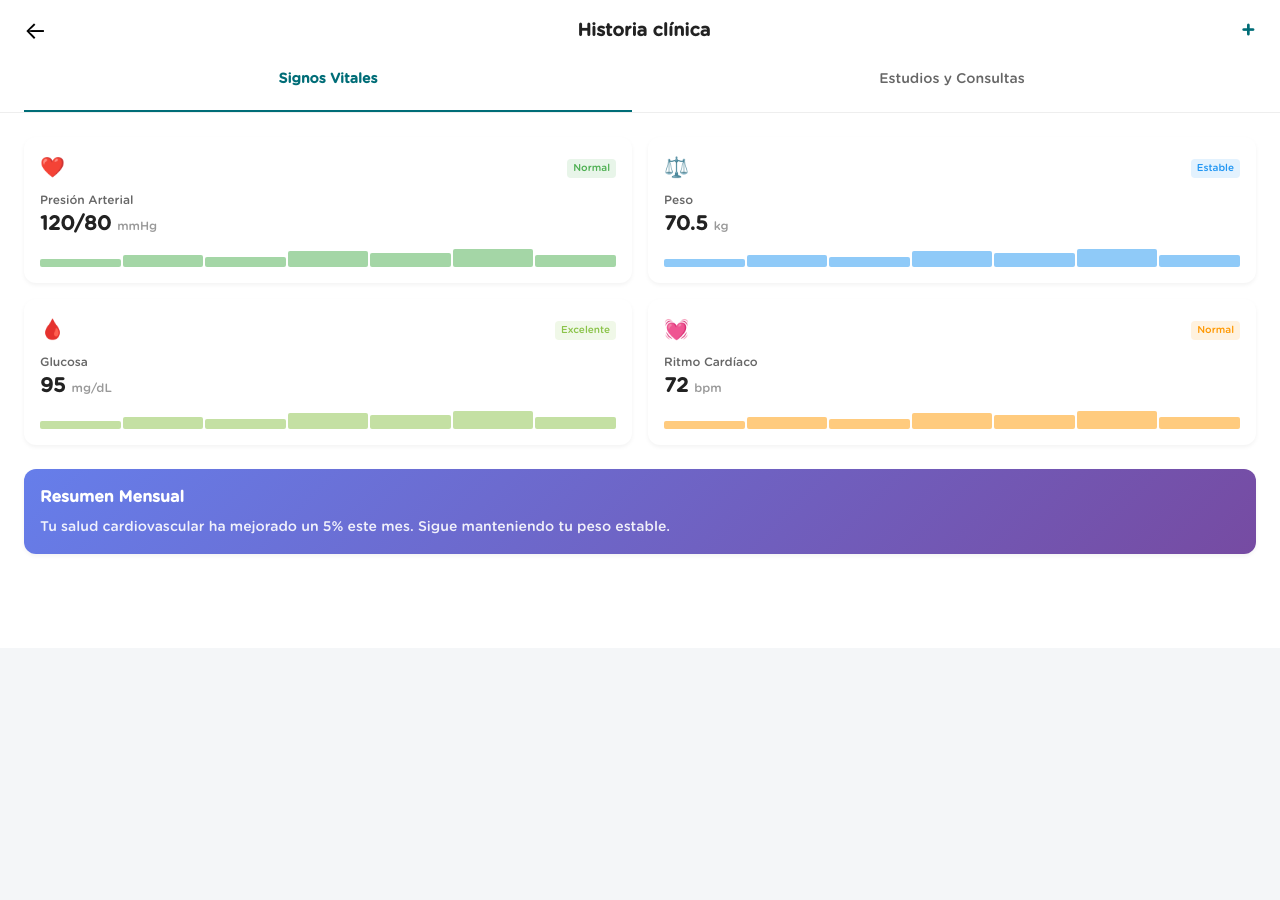
Test case: MedicalHistory Component › switches to Estudios y Consultas tab
Click the button "Estudios y Consultas" at (952, 80), box top-left (648, 63), bottom-right (1256, 96)
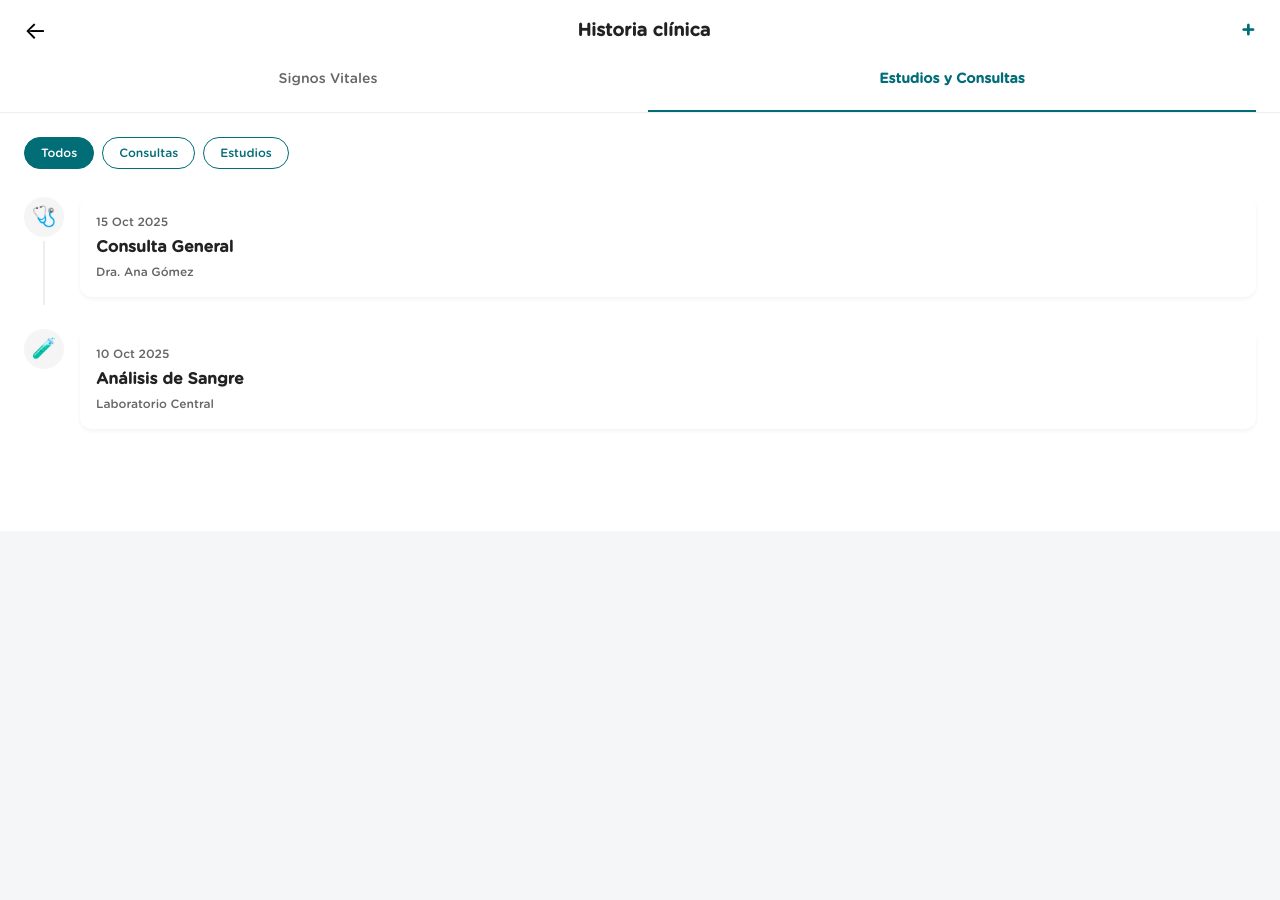
Check: the text "Presión Arterial" is gone
Check: the text "Consulta General" is shown, box top-left (96, 239), bottom-right (233, 255)
